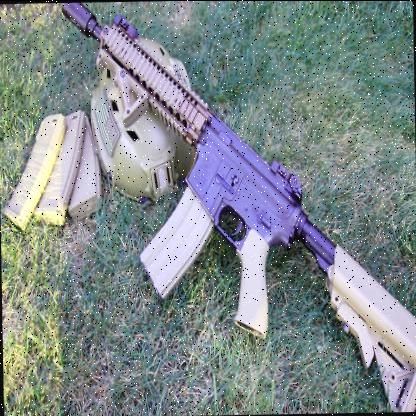rifle: (49, 0, 416, 415)
